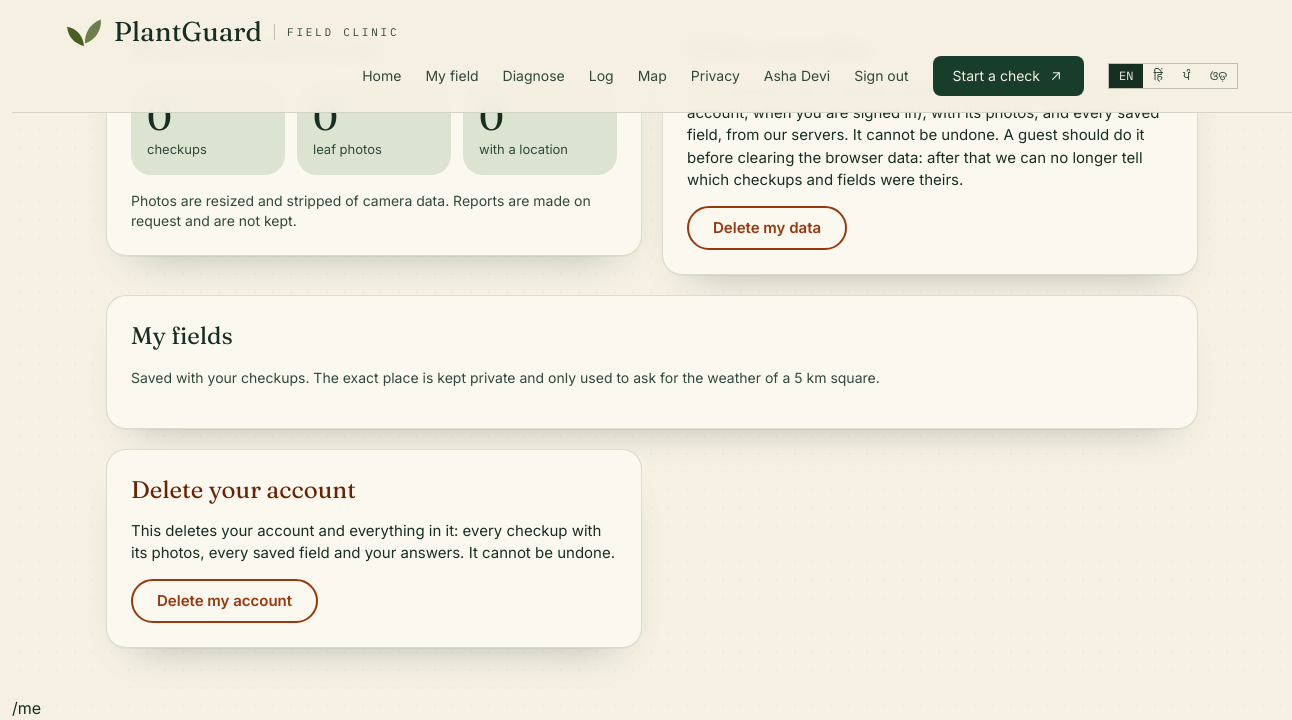
it: Profile › deleting the account signs out and says so
(page scrolled)
Click the button "Delete my account". click: (224, 601)
box: top-left (131, 579), bottom-right (318, 623)
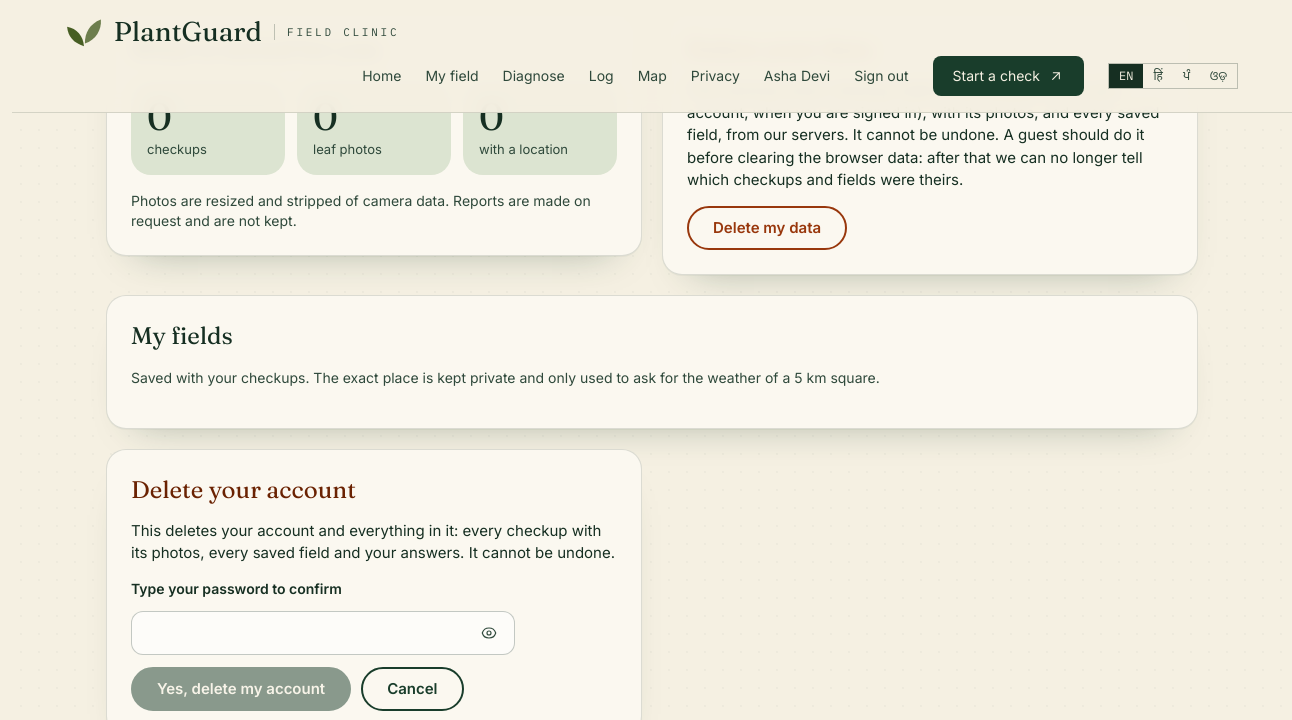
Type "correct horse battery" into the password field labelled "Type your password to confirm". click: (323, 633)
box: top-left (131, 611), bottom-right (515, 655)
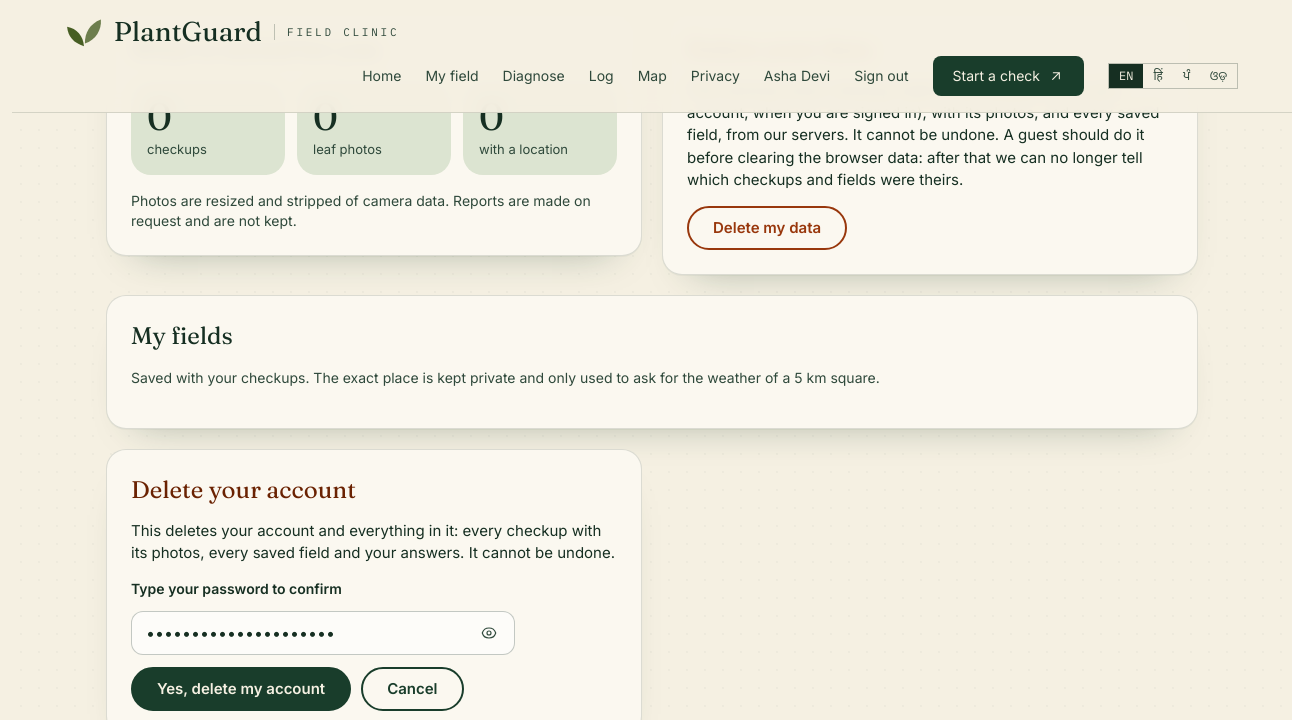
Click the button "Yes, delete my account". click: (241, 689)
box: top-left (131, 667), bottom-right (351, 711)
(page scrolled)
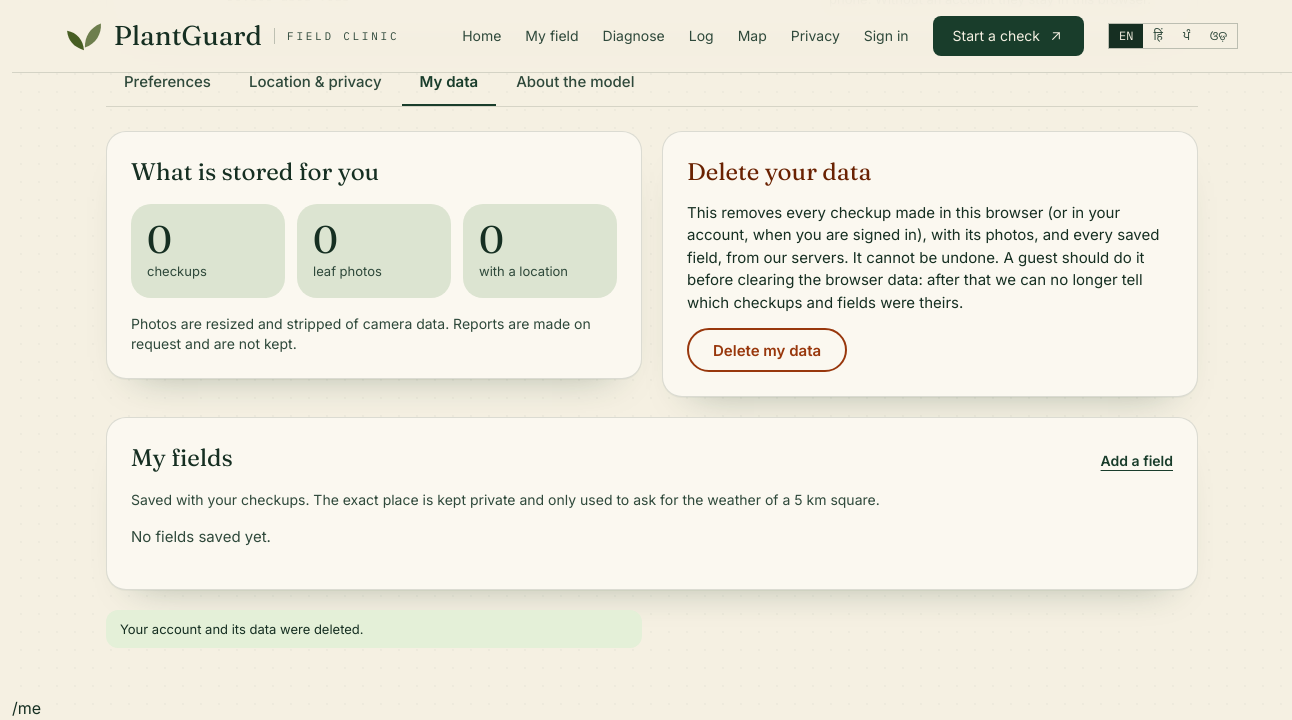
Now the text "Your account and its data were deleted." is shown, box top-left (106, 610), bottom-right (642, 648)
